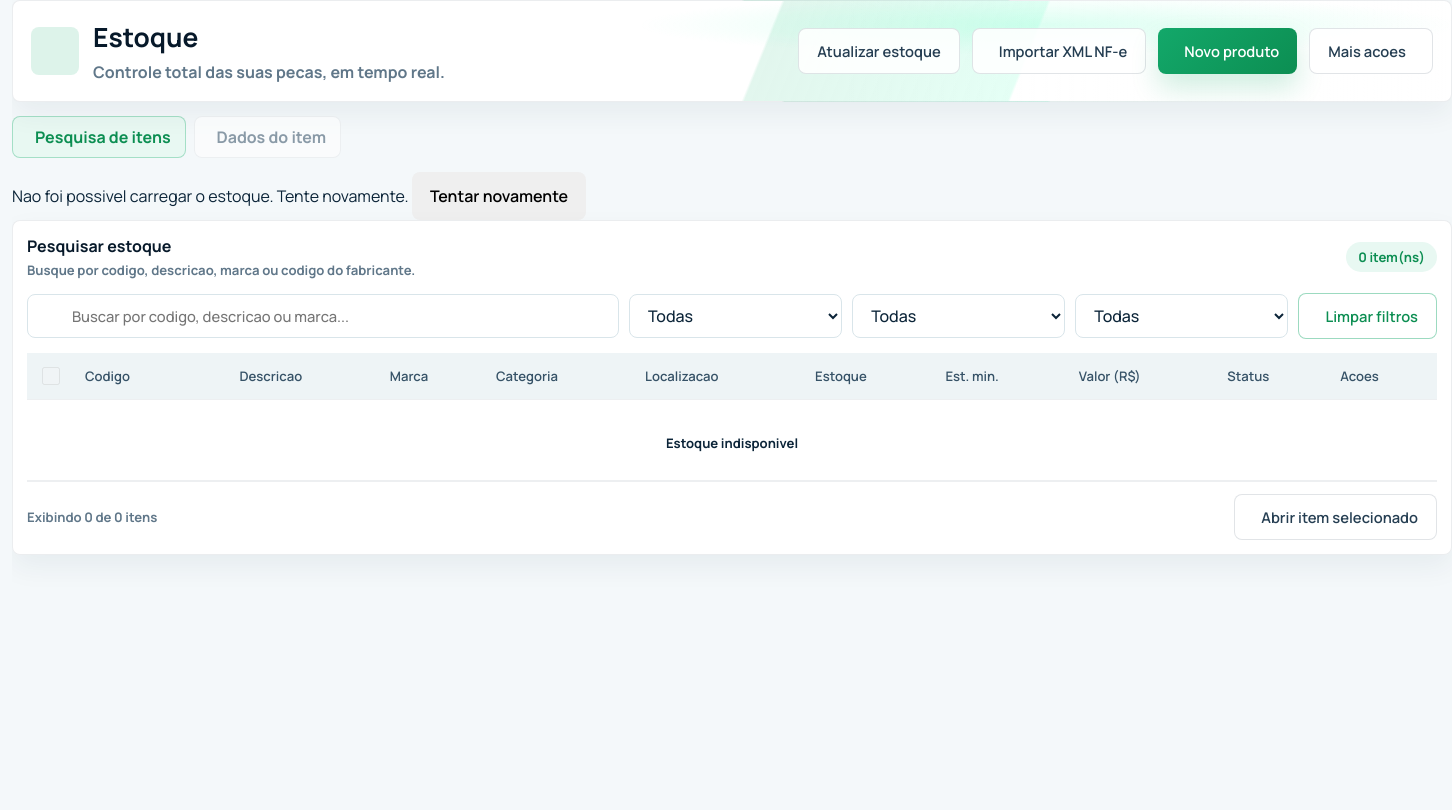
Test case: InventoryComponent API integration › shows request failures and allows retrying instead of showing fake stock
The width and height of the screenshot is (1452, 810).
Click the button "Tentar novamente" at (499, 196), box x1=412 y1=172 x2=586 y2=220
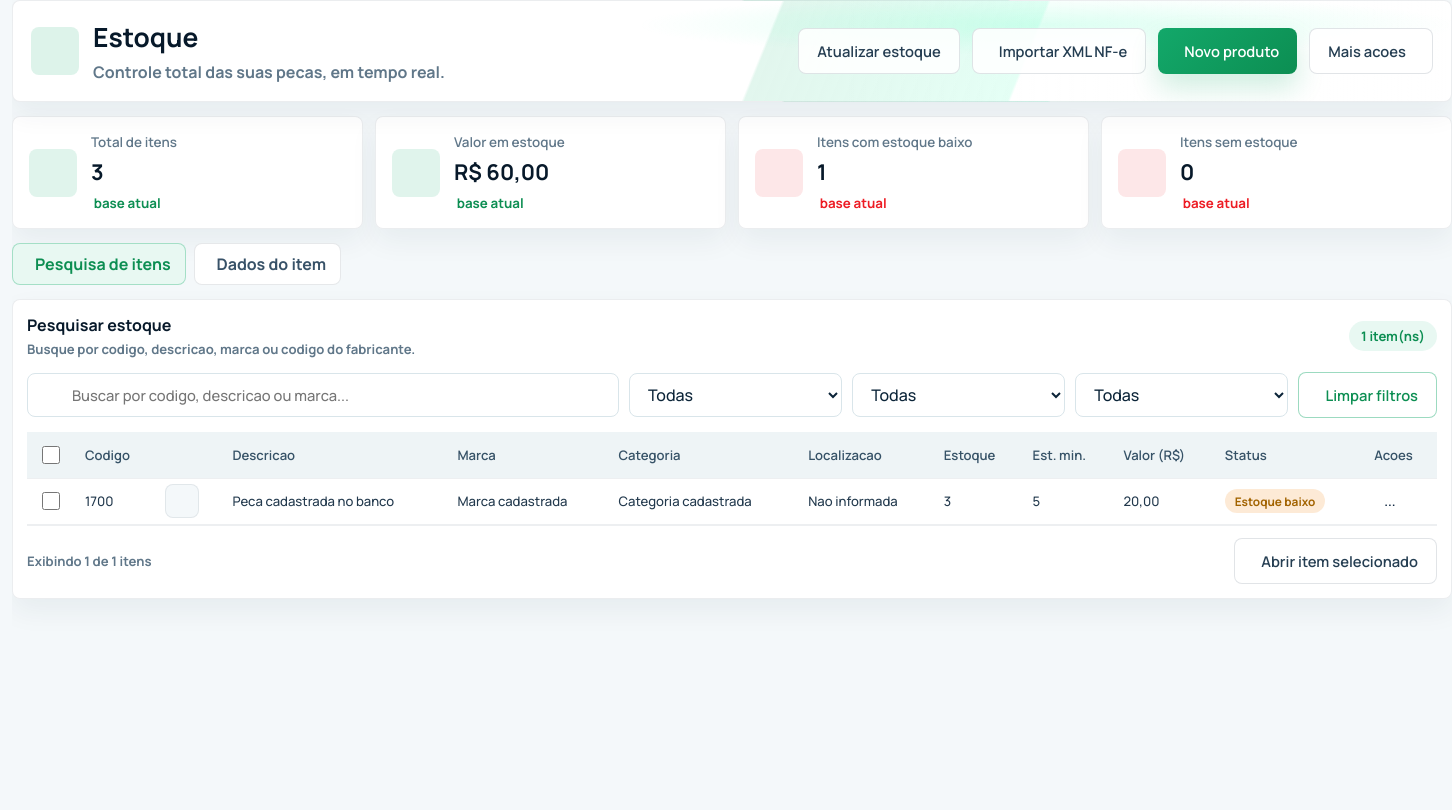
Expected: the message "Nao foi possivel carregar o estoque. Tente novamente. Tentar novamente" is gone
